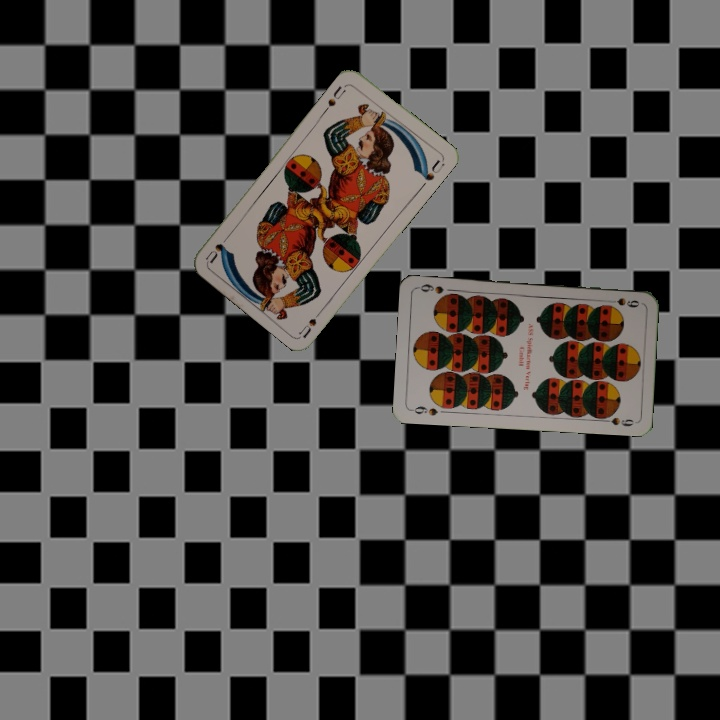S9: (602, 294, 641, 310), (407, 402, 440, 418)
SU: (295, 303, 327, 340), (324, 81, 348, 109)
